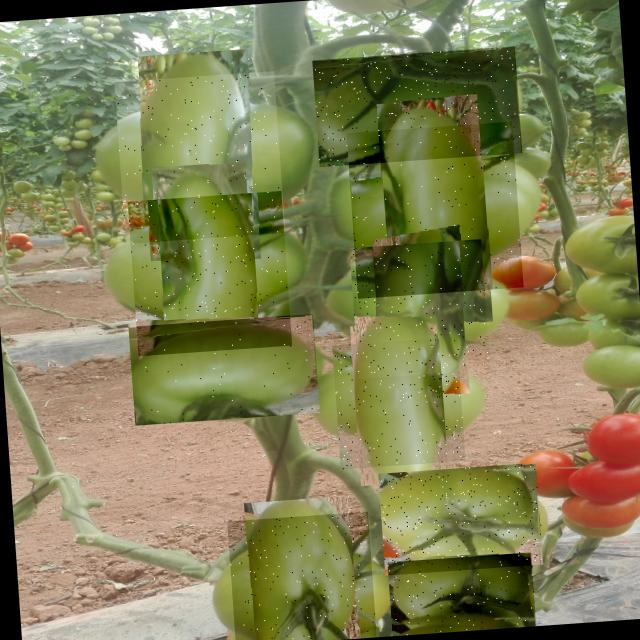Unripe Tomato: (346, 121, 523, 298), (114, 70, 285, 244), (128, 190, 292, 356), (312, 46, 522, 166), (128, 314, 319, 426), (349, 238, 490, 378), (227, 511, 376, 640), (378, 462, 544, 575), (332, 336, 465, 468), (387, 552, 536, 636)
